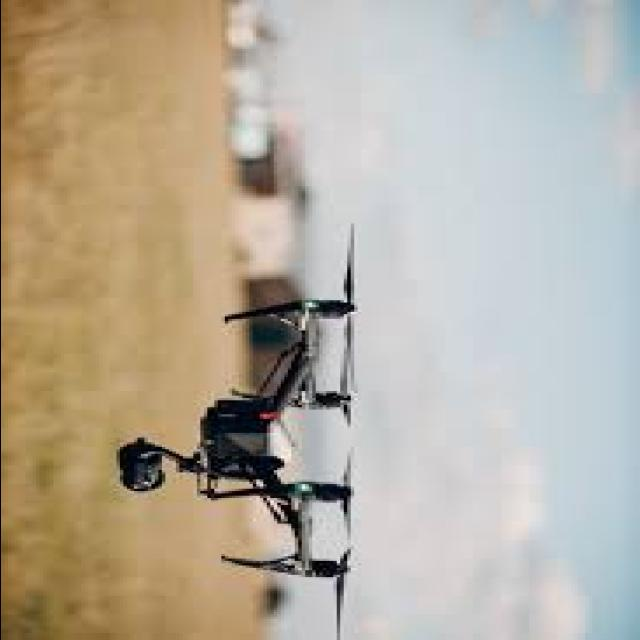drone: (116, 218, 396, 635)
